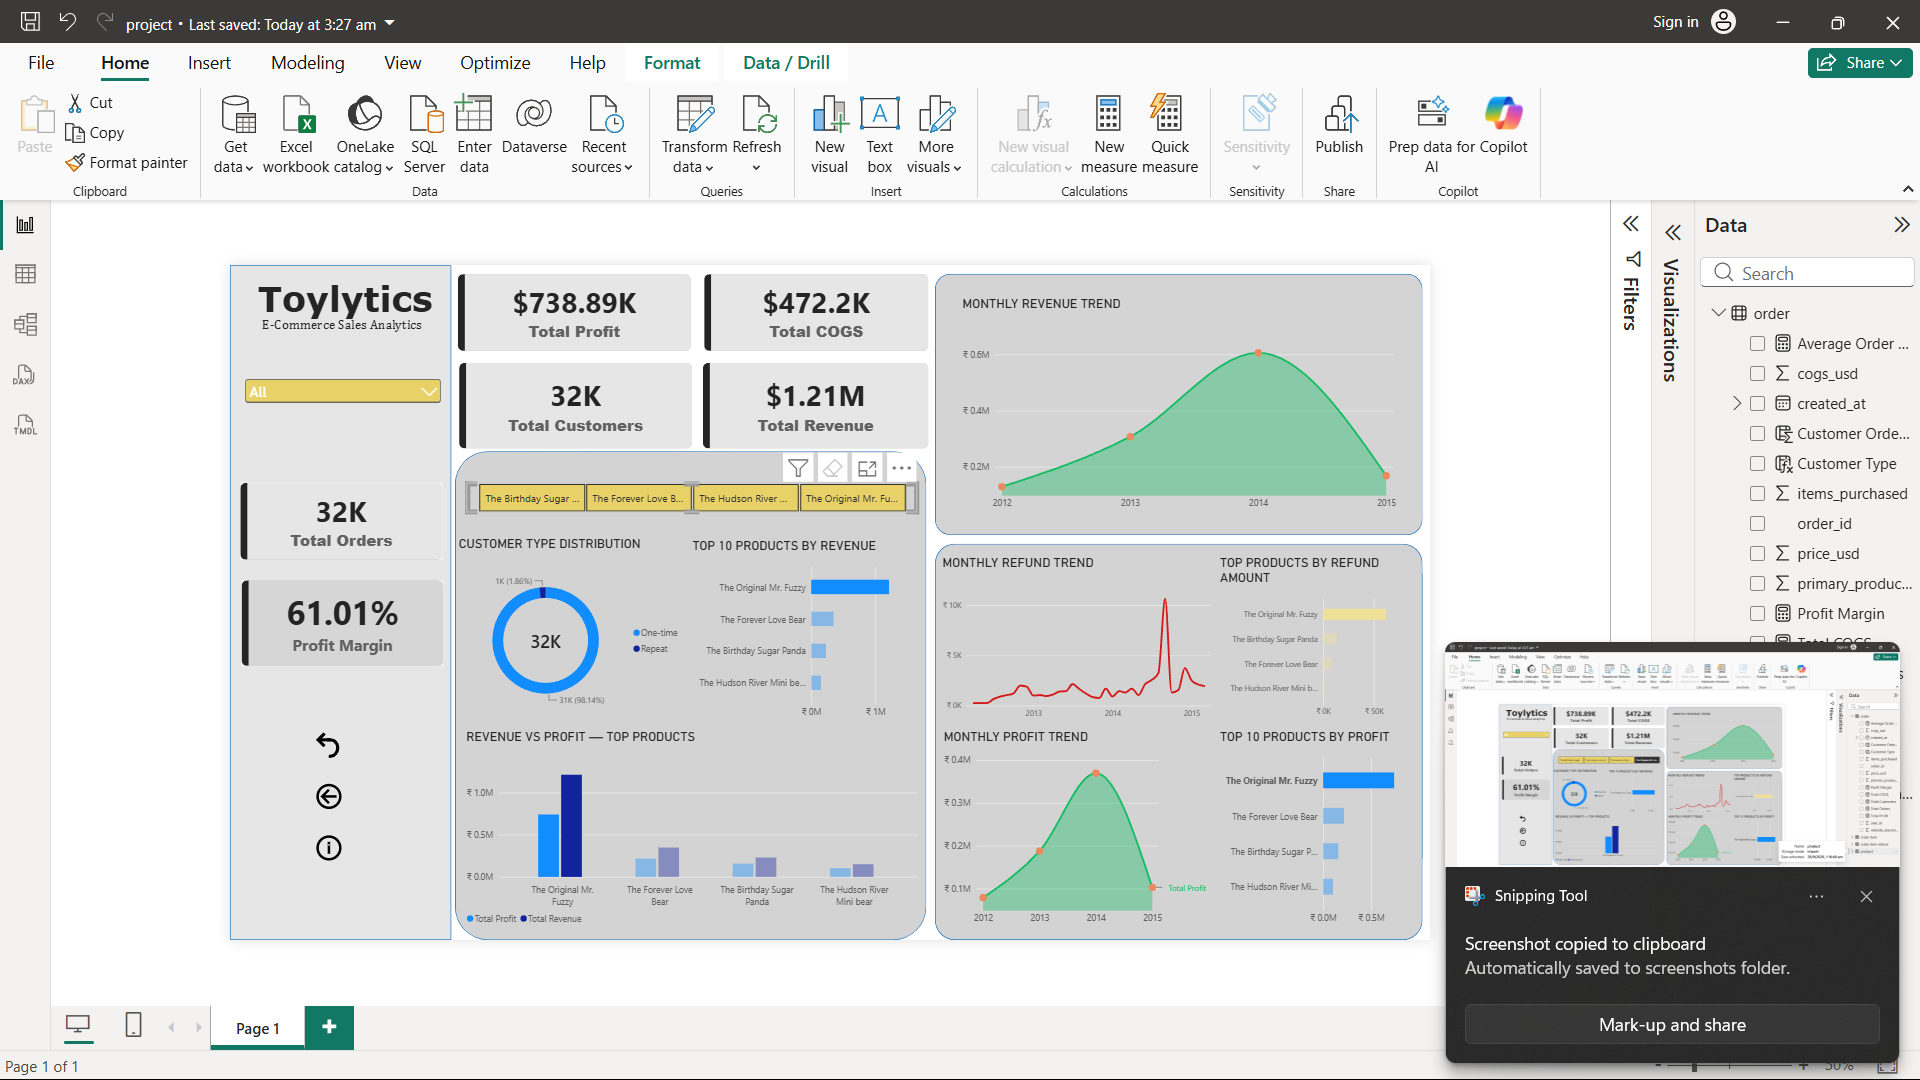

What the dashboard file says about the page in this screenshot:
{"tool":"powerbi","page":{"name":"Page 1","canvas":[1920,1080],"ordinal":0},"visuals":[{"type":"shape","box":[1128,446,780,634],"z":0},{"type":"shape","box":[1128,14,780,418],"z":1000},{"type":"shape","box":[0,0,354,1080],"z":2000},{"type":"shape","box":[360,298,754,782],"z":3000},{"type":"cardVisual","fields":{"Data":["order.Total Profit"]},"box":[364,14,374,124],"z":4000},{"type":"cardVisual","fields":{"Data":["order.Total Orders"]},"box":[16,348,324,124],"z":5000},{"type":"cardVisual","fields":{"Data":["order.Total Customers"]},"box":[366,156,374,138],"z":6000},{"type":"cardVisual","fields":{"Data":["order.Total COGS"]},"box":[758,14,360,124],"z":7000},{"type":"cardVisual","fields":{"Data":["order item.Total Revenue"]},"box":[756,156,362,138],"z":8000},{"type":"lineChart","title":"MONTHLY REVENUE TREND","fields":{"Category":["order.created_at.Variation.Date Hierarchy.Year","order.created_at.Variation.Date Hierarchy.Quarter","order.created_at.Variation.Date Hierarchy.Month","order.created_at.Variation.Date Hierarchy.Day"],"Y":["order item.Total Revenue"]},"box":[1172,50,694,346],"z":9000},{"type":"lineChart","title":"MONTHLY PROFIT TREND","fields":{"Category":["order.created_at.Variation.Date Hierarchy.Year","order.created_at.Variation.Date Hierarchy.Quarter","order.created_at.Variation.Date Hierarchy.Month","order.created_at.Variation.Date Hierarchy.Day"],"Y":["order.Total Profit"]},"box":[1142,742,430,318],"z":10000},{"type":"donutChart","title":"CUSTOMER TYPE DISTRIBUTION","fields":{"Category":["order.Customer Type"],"Y":["order.Total Customers"]},"box":[366,434,360,294],"z":11000},{"type":"clusteredBarChart","title":"TOP 10 PRODUCTS BY PROFIT","fields":{"Category":["product.product_name"],"Y":["order.Total Profit"]},"box":[1584,742,310,318],"z":12000},{"type":"clusteredColumnChart","title":"REVENUE VS PROFIT — TOP PRODUCTS","fields":{"Category":["product.product_name"],"Y":["order.Total Profit","order item.Total Revenue"]},"box":[378,742,722,318],"z":13000},{"type":"barChart","title":"TOP 10 PRODUCTS BY REVENUE","fields":{"Category":["product.product_name"],"Y":["order item.Total Revenue"]},"box":[740,436,360,294],"z":14000},{"type":"barChart","title":"TOP PRODUCTS BY REFUND AMOUNT","fields":{"Category":["product.product_name"],"Y":["Sum(order item refund.refund_amount_usd)"]},"box":[1584,464,310,264],"z":15000},{"type":"lineChart","title":"MONTHLY REFUND TREND","fields":{"Category":["order item refund.created_at.Variation.Date Hierarchy.Year","order item refund.created_at.Variation.Date Hierarchy.Quarter","order item refund.created_at.Variation.Date Hierarchy.Month"],"Y":["Sum(order item refund.refund_amount_usd)"]},"box":[1140,464,432,266],"z":16000},{"type":"slicer","title":"year","fields":{"Values":["order.created_at.Variation.Date Hierarchy.Year"]},"box":[20,178,322,62],"z":17000},{"type":"slicer","fields":{"Values":["product.product_name"]},"box":[378,348,722,48],"z":18000},{"type":"textbox","box":[0,14,354,92],"z":19000},{"type":"textbox","box":[18,82,322,110],"z":20000},{"type":"cardVisual","fields":{"Data":["order.Profit Margin"]},"box":[18,504,324,138],"z":21000},{"type":"actionButton","box":[100,728,106,82],"z":22000},{"type":"actionButton","box":[48,780,212,142],"z":23000},{"type":"actionButton","box":[104,880,100,108],"z":24000}]}

Visuals, with their boxes on the page's 1920x1080 design canvas (x1, y1, x2, y2). These are canvas units, not pixel positions in the 1920x1080 screenshot, which may show the page scaled, cropped or inside an application window:
shape: detection(1128, 446, 1908, 1080)
shape: detection(1128, 14, 1908, 432)
shape: detection(0, 0, 354, 1080)
shape: detection(360, 298, 1114, 1080)
cardVisual - order.Total Profit: detection(364, 14, 738, 138)
cardVisual - order.Total Orders: detection(16, 348, 340, 472)
cardVisual - order.Total Customers: detection(366, 156, 740, 294)
cardVisual - order.Total COGS: detection(758, 14, 1118, 138)
cardVisual - order item.Total Revenue: detection(756, 156, 1118, 294)
"MONTHLY REVENUE TREND" lineChart: detection(1172, 50, 1866, 396)
"MONTHLY PROFIT TREND" lineChart: detection(1142, 742, 1572, 1060)
"CUSTOMER TYPE DISTRIBUTION" donutChart: detection(366, 434, 726, 728)
"TOP 10 PRODUCTS BY PROFIT" clusteredBarChart: detection(1584, 742, 1894, 1060)
"REVENUE VS PROFIT — TOP PRODUCTS" clusteredColumnChart: detection(378, 742, 1100, 1060)
"TOP 10 PRODUCTS BY REVENUE" barChart: detection(740, 436, 1100, 730)
"TOP PRODUCTS BY REFUND AMOUNT" barChart: detection(1584, 464, 1894, 728)
"MONTHLY REFUND TREND" lineChart: detection(1140, 464, 1572, 730)
"year" slicer: detection(20, 178, 342, 240)
slicer - product.product_name: detection(378, 348, 1100, 396)
textbox: detection(0, 14, 354, 106)
textbox: detection(18, 82, 340, 192)
cardVisual - order.Profit Margin: detection(18, 504, 342, 642)
actionButton: detection(100, 728, 206, 810)
actionButton: detection(48, 780, 260, 922)
actionButton: detection(104, 880, 204, 988)
